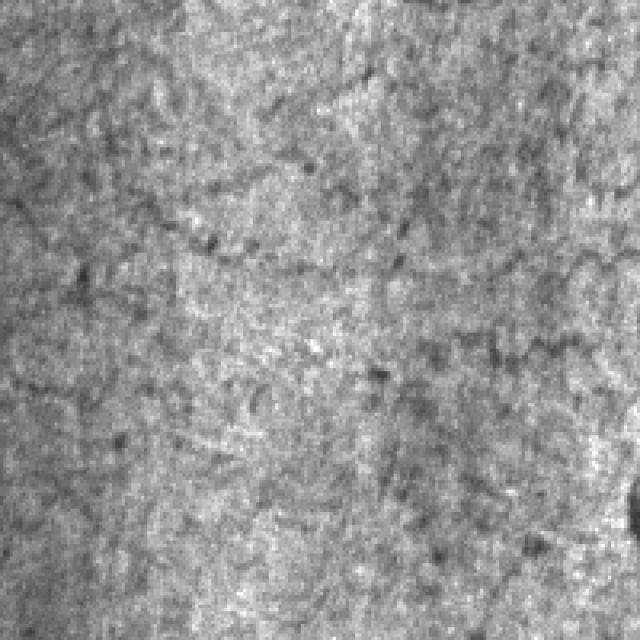crazing: (349, 314, 621, 604), (76, 163, 634, 291)
